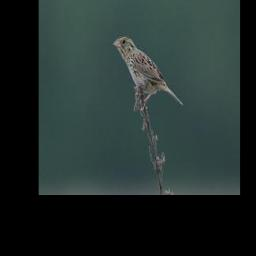Sparrow: (114, 34, 184, 112)
